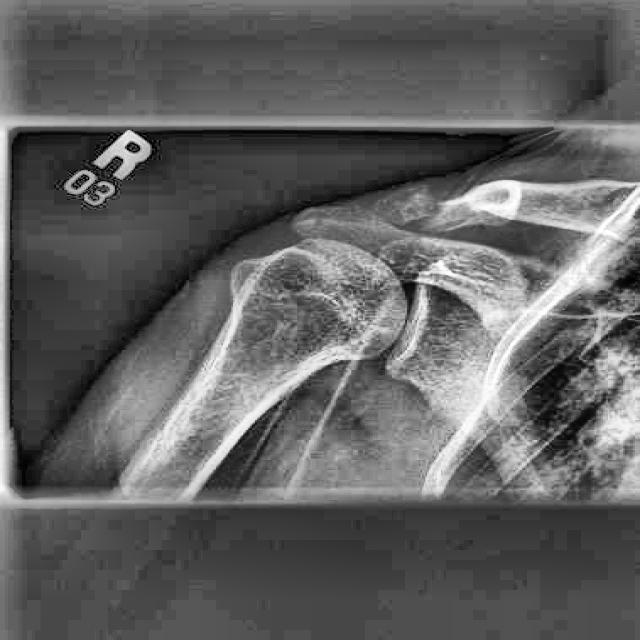shoulder fracture: (347, 188, 430, 238)
